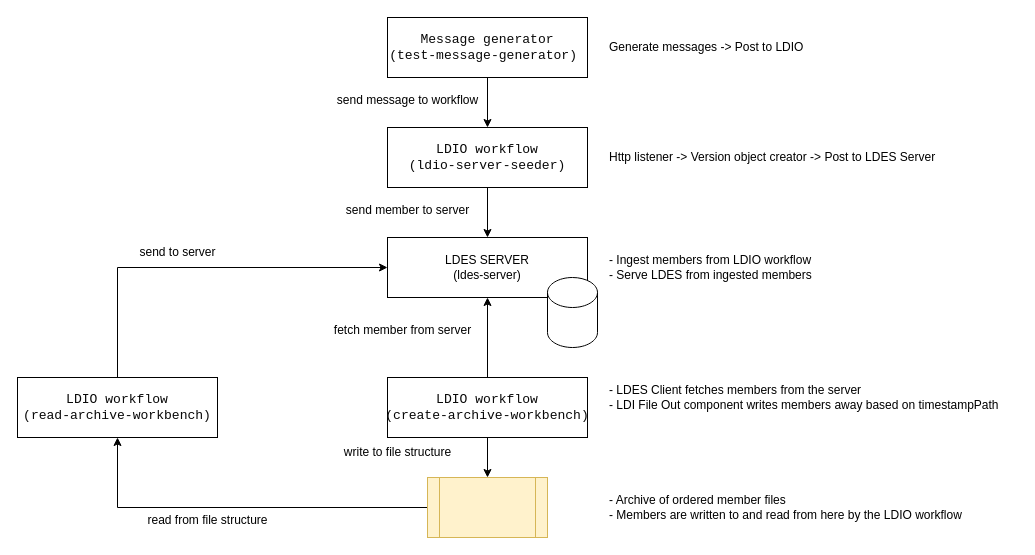
Some shapes in this 1035 by 555 pixel diagram are drawn without their labels. The box of each missing label's shape, as (x1, y1, x2, y2) in pixels:
Archive: (426, 476, 548, 538)
ldes-mongodb: (546, 276, 598, 348)
